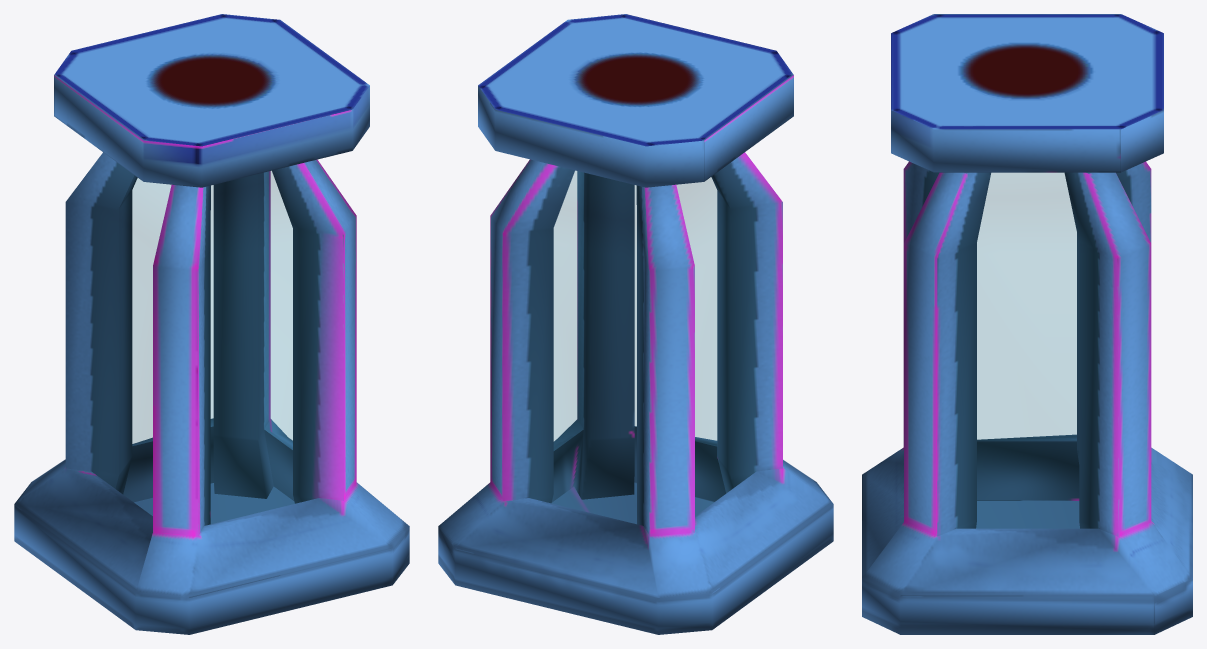
The model's file is FlaskPickup.fbx.
3 renders of one model, left to right at view 1: azimuth 30°, elevation 25°; view 2: azimuth 150°, elevation 25°; view 3: azimuth 270°, elevation 25°, orthographic. The views are drawn at different scales.
Visible parts, largest first — view 1: Collectible_LOD0; view 2: Collectible_LOD0; view 3: Collectible_LOD0.
Part boxes in pixels (left/top/right/bottom): Collectible_LOD0: left=14, top=14, right=409, bottom=634; Collectible_LOD0: left=438, top=14, right=833, bottom=634; Collectible_LOD0: left=862, top=14, right=1192, bottom=634.
Bounding box in the file's own units: 185 × 304 × 185.
2 materials, 1 textured.
